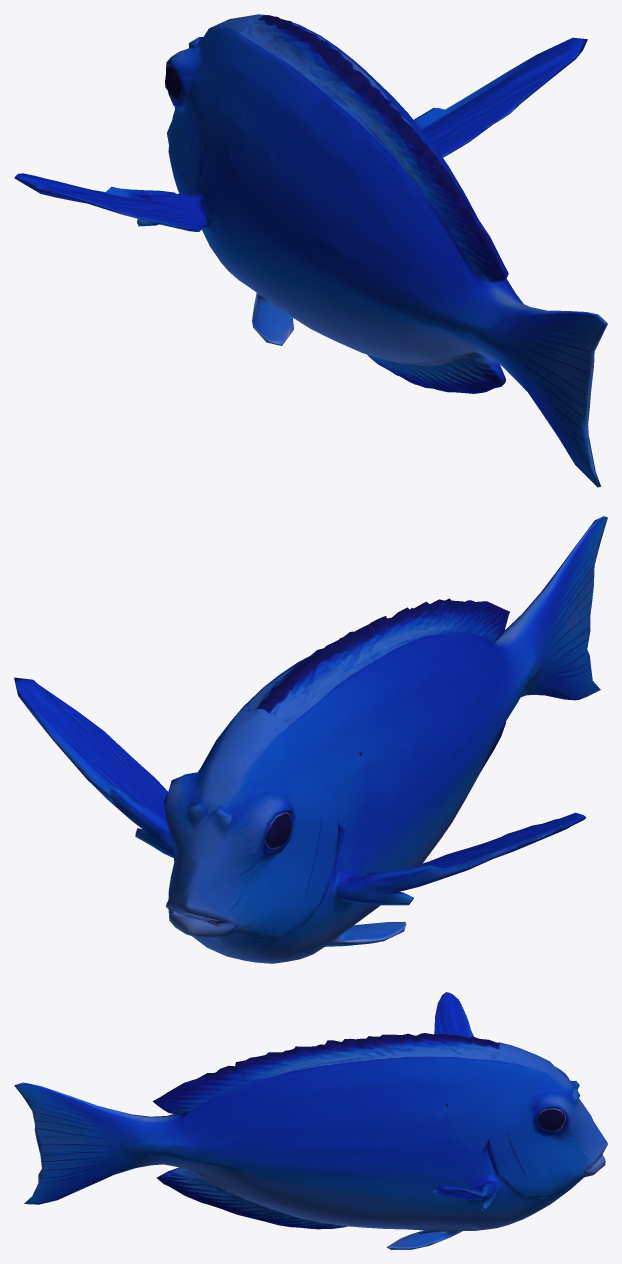
Rendered from fish-blue.glb.
The picture shows the model from 3 angles, top to bottom: view 1: azimuth 30°, elevation 25°; view 2: azimuth 150°, elevation 25°; view 3: azimuth 270°, elevation 25°; orthographic projection. The views are drawn at different scales.
Visible parts, largest first — view 1: tripo_node_fd01293a-5d9a-4f12-95fe-ac5d0b261bb7; view 2: tripo_node_fd01293a-5d9a-4f12-95fe-ac5d0b261bb7; view 3: tripo_node_fd01293a-5d9a-4f12-95fe-ac5d0b261bb7.
Boxes of the visible parts, x1,y1,x2,y2 form: tripo_node_fd01293a-5d9a-4f12-95fe-ac5d0b261bb7: (14, 14, 607, 487); tripo_node_fd01293a-5d9a-4f12-95fe-ac5d0b261bb7: (14, 516, 607, 963); tripo_node_fd01293a-5d9a-4f12-95fe-ac5d0b261bb7: (14, 992, 607, 1249).
Size of the model in its own units: 0.7872 by 0.3621 by 1.
1 material, 1 textured.
